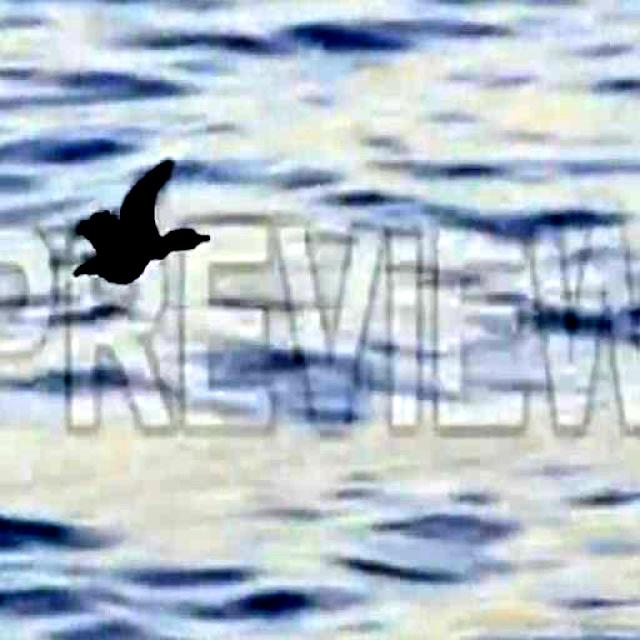airplane: (59, 134, 209, 296)
